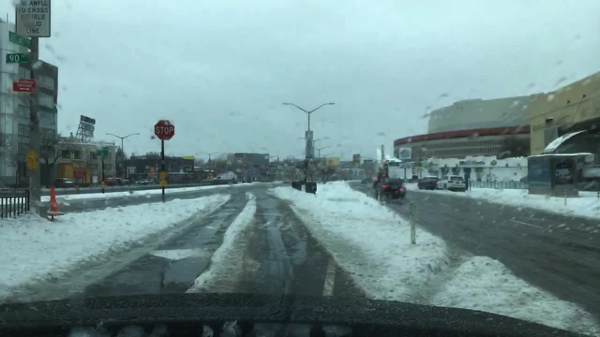car: (375, 179, 407, 202), (437, 176, 465, 192), (212, 172, 238, 184), (418, 176, 440, 190), (372, 176, 389, 190), (54, 177, 75, 188), (106, 177, 124, 187), (136, 178, 150, 184), (360, 178, 368, 185), (283, 176, 290, 183), (124, 179, 131, 185)
traffic sign: (15, 0, 51, 37), (153, 119, 175, 140), (8, 30, 31, 48), (12, 79, 37, 92), (6, 53, 33, 64), (399, 147, 411, 160), (27, 68, 39, 80), (327, 157, 339, 167), (27, 149, 38, 159), (28, 160, 38, 171), (126, 166, 138, 175), (9, 73, 23, 80), (95, 149, 109, 155), (304, 131, 313, 140), (398, 163, 411, 169), (246, 154, 261, 159), (159, 170, 168, 178), (234, 152, 246, 158), (157, 159, 167, 166), (159, 180, 167, 188), (100, 180, 106, 188), (416, 167, 423, 173), (307, 141, 313, 147)
